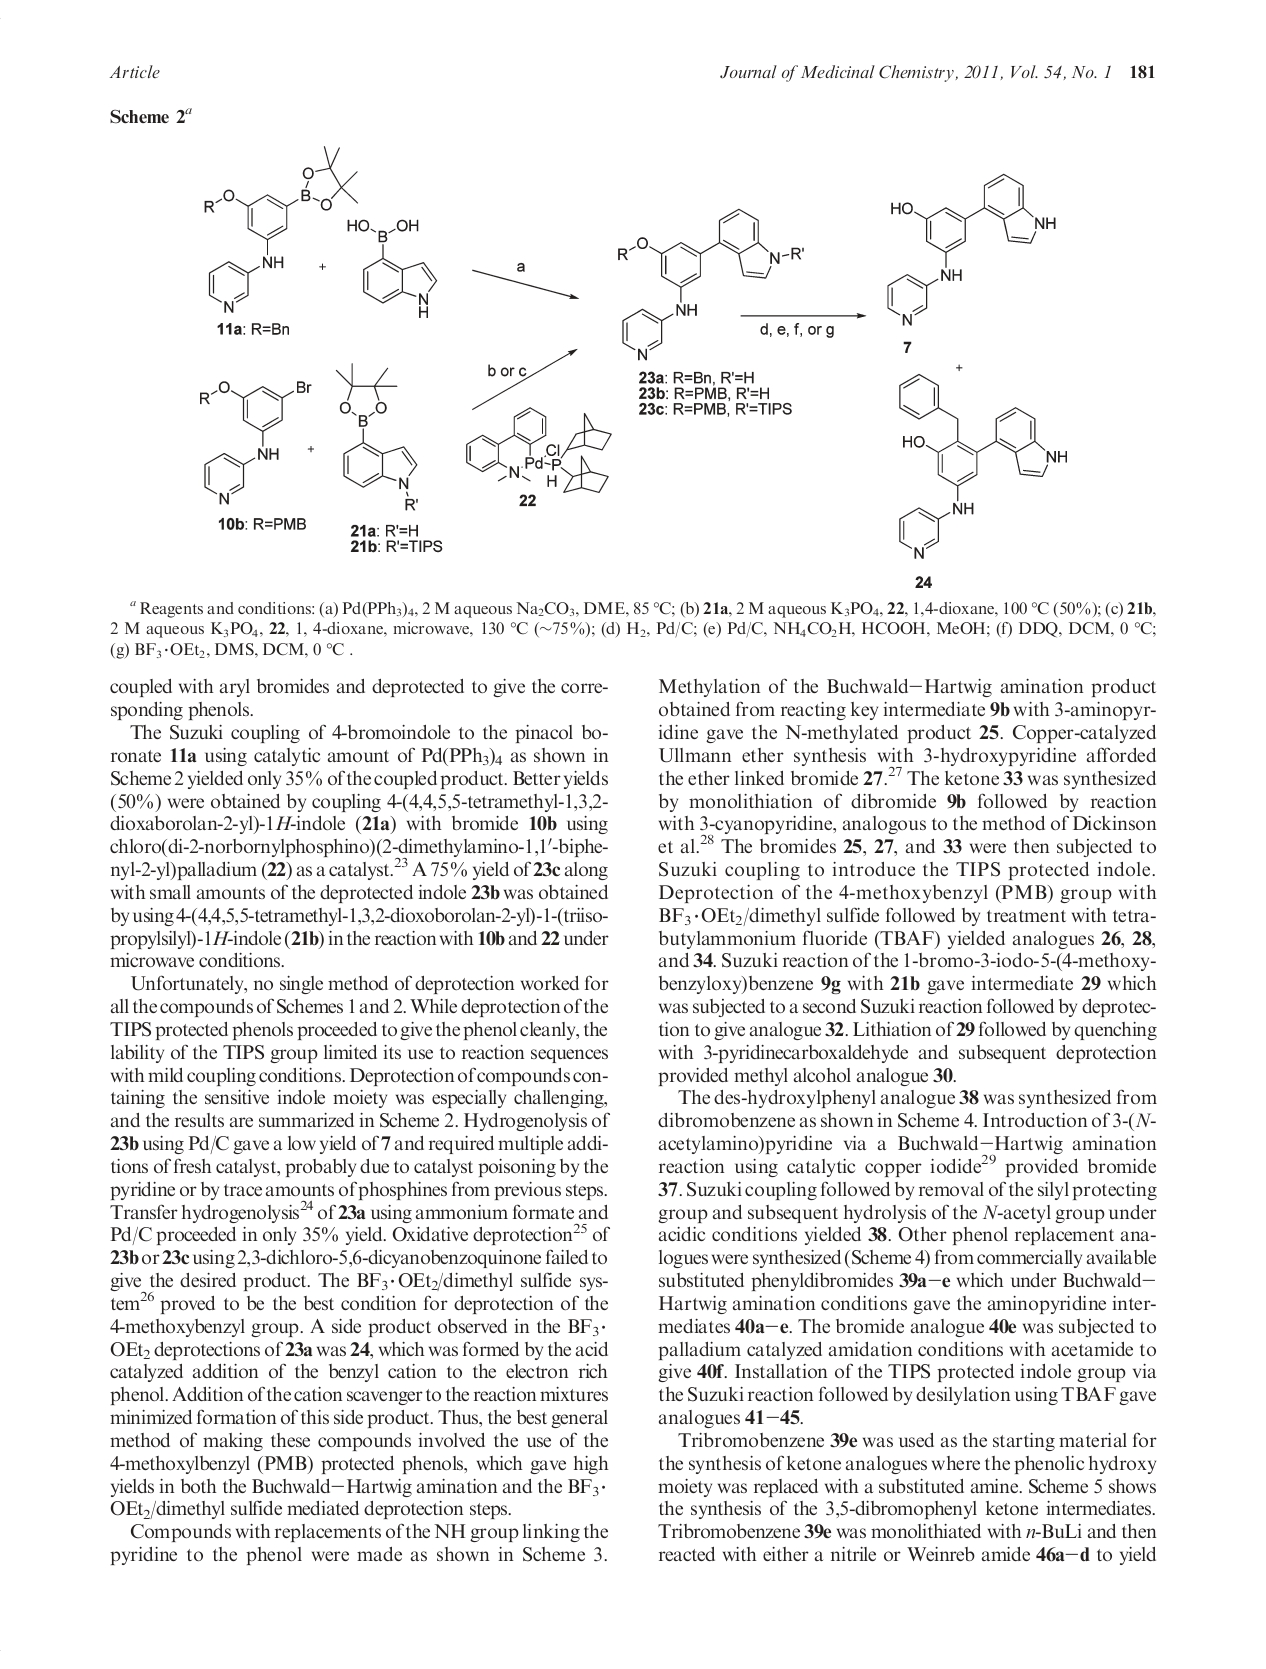exist_molecular: (895, 372, 1071, 559), (614, 205, 807, 363), (199, 142, 359, 315), (883, 170, 1059, 327), (197, 378, 311, 505), (331, 360, 423, 515), (464, 406, 612, 493), (343, 215, 438, 321)
